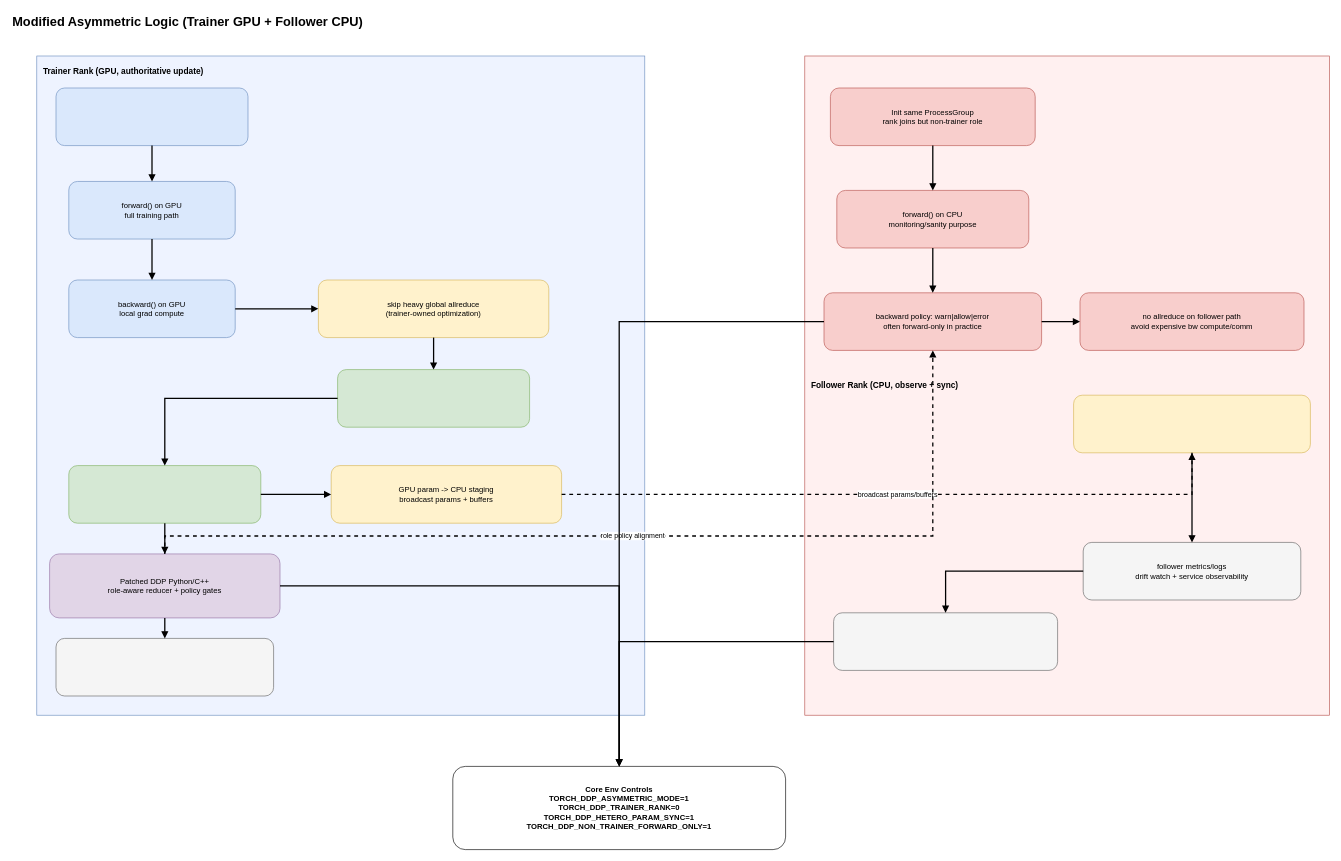
The diagram is 1341 pixels wide and 861 high, and some of its shapes have lost their labels. Here are the shapes that lost their labels. From the top down, the centre of each, then its label:
At (151,116): "Init ProcessGroup (gloo) asymmetric env policy active".
At (433,398): "optimizer.step() on trainer single authoritative update".
At (1191,424): "receive broadcast weights refresh local CPU model state".
At (164,494): "trainer_step() sync_params_from_trainer()".
At (945,641): "CPU-only container target no GPU visibility dependency".
At (164,667): "Trainer metrics/checkpoint trigger loss, throughput, step timing".
